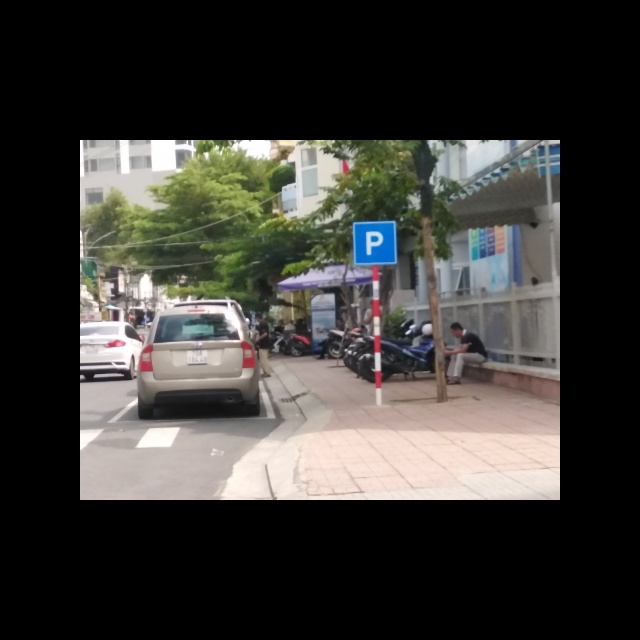Nơi đỗ xe: (352, 221, 399, 266)
